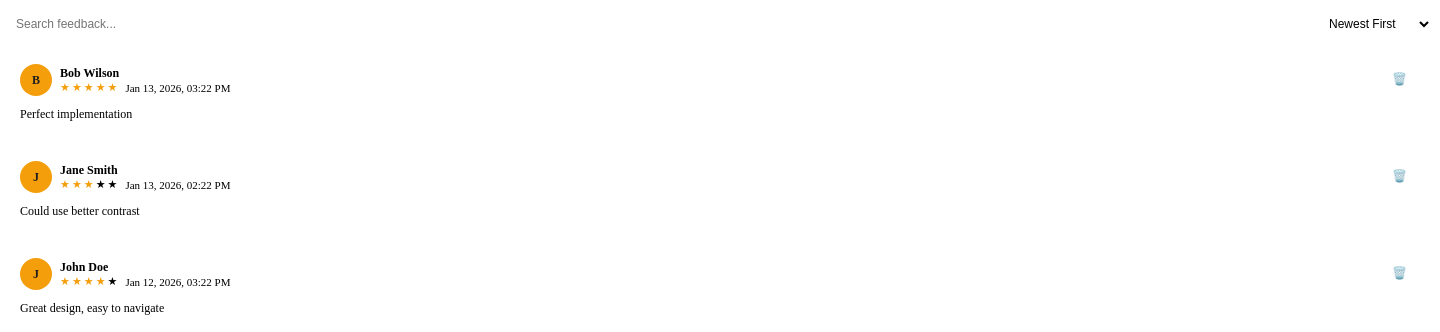
FeedbackHistory › shows result count when searching
Step 1. Type "design" into the field with placeholder "Search feedback..." → (656, 24), box 8,8 -> 1305,40
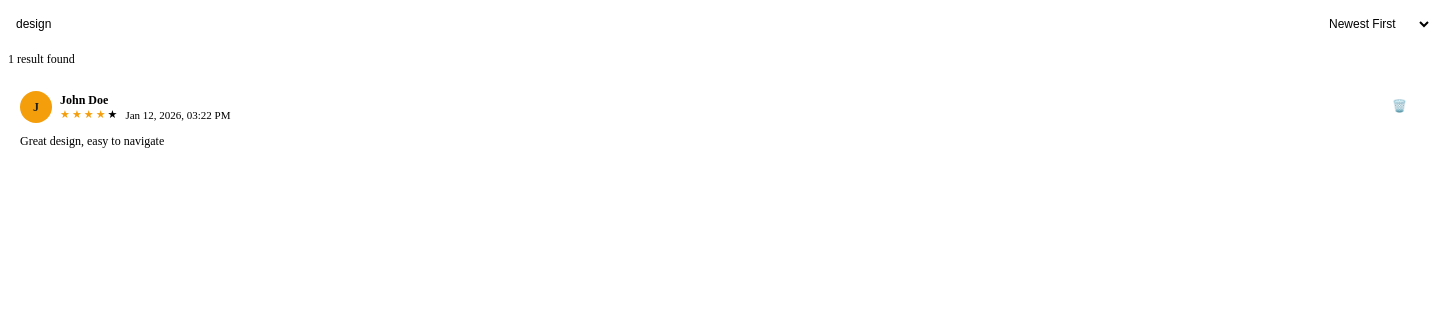
Now the text "1 result found" is shown, box 8,52 -> 75,66
